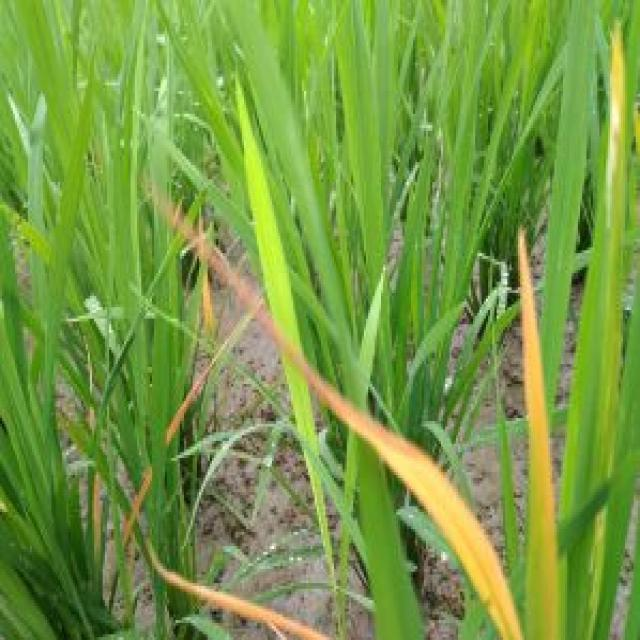Rice Tungro: (508, 221, 569, 632)
